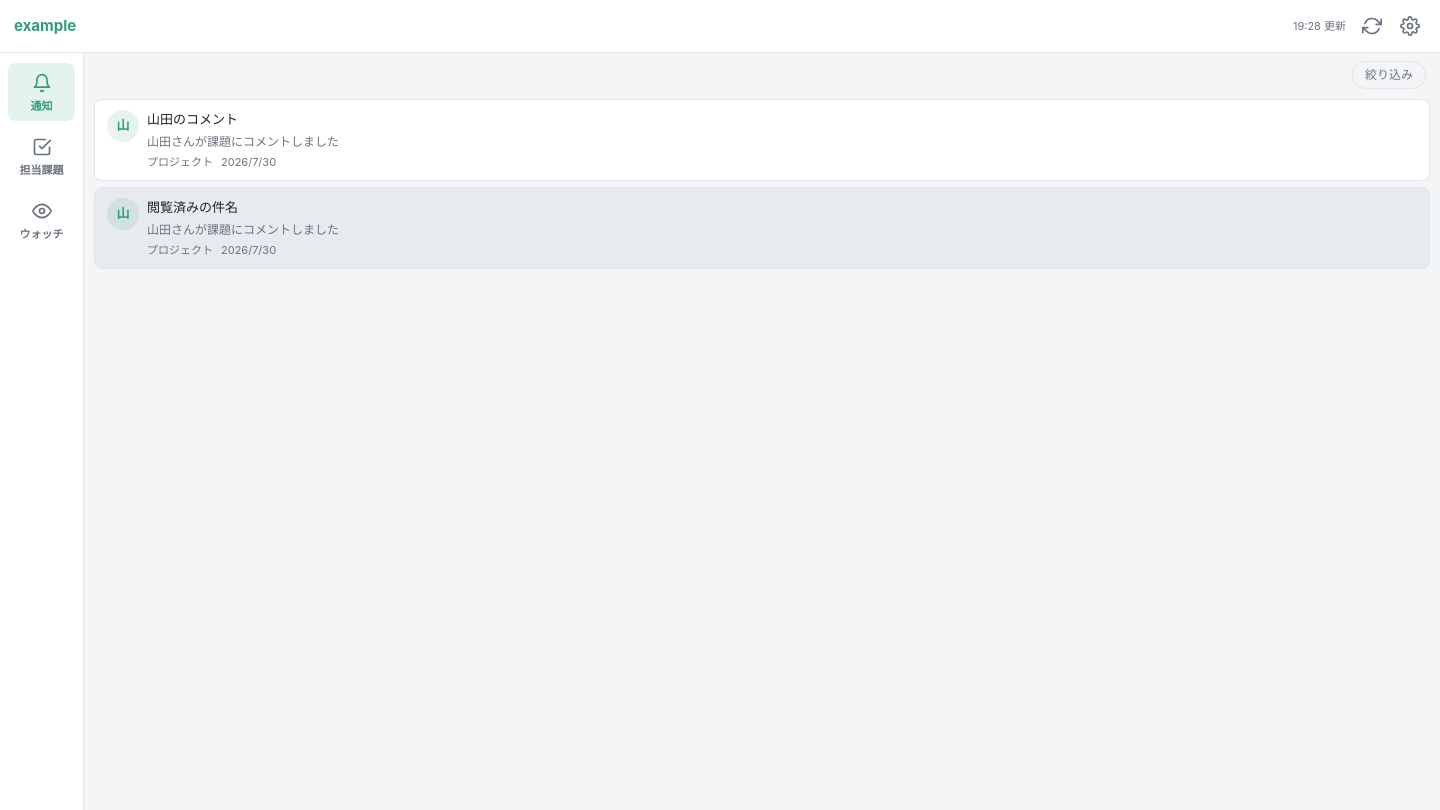
Test case: App の通知の絞り込み › 未閲覧のみで閲覧済みの通知が消える
The image size is (1440, 810).
Click the button "絞り込み".
click(1389, 75)  # box [1352,61,1426,89]
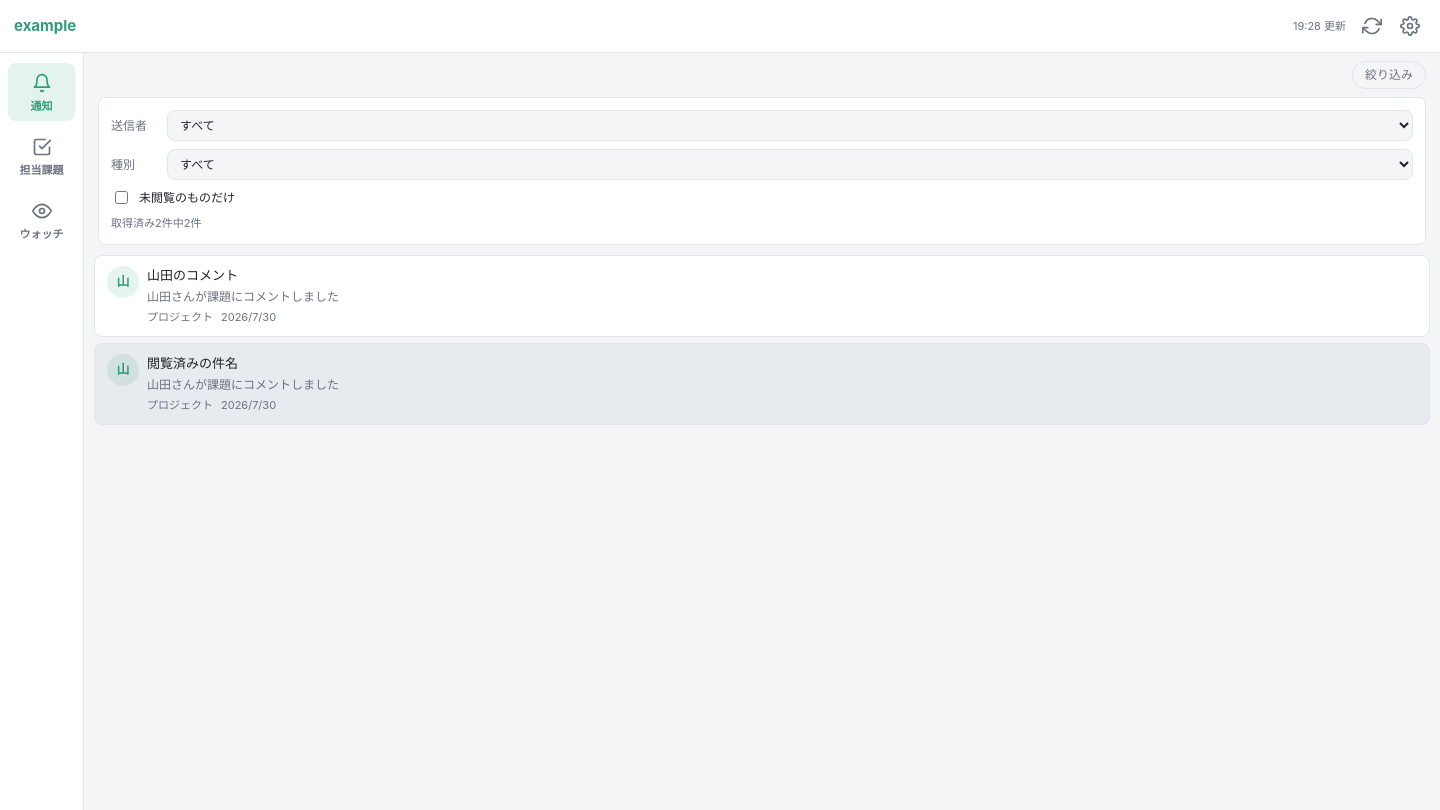
Click the checkbox labelled "未閲覧のものだけ".
click(122, 198)  # box [115,191,128,204]
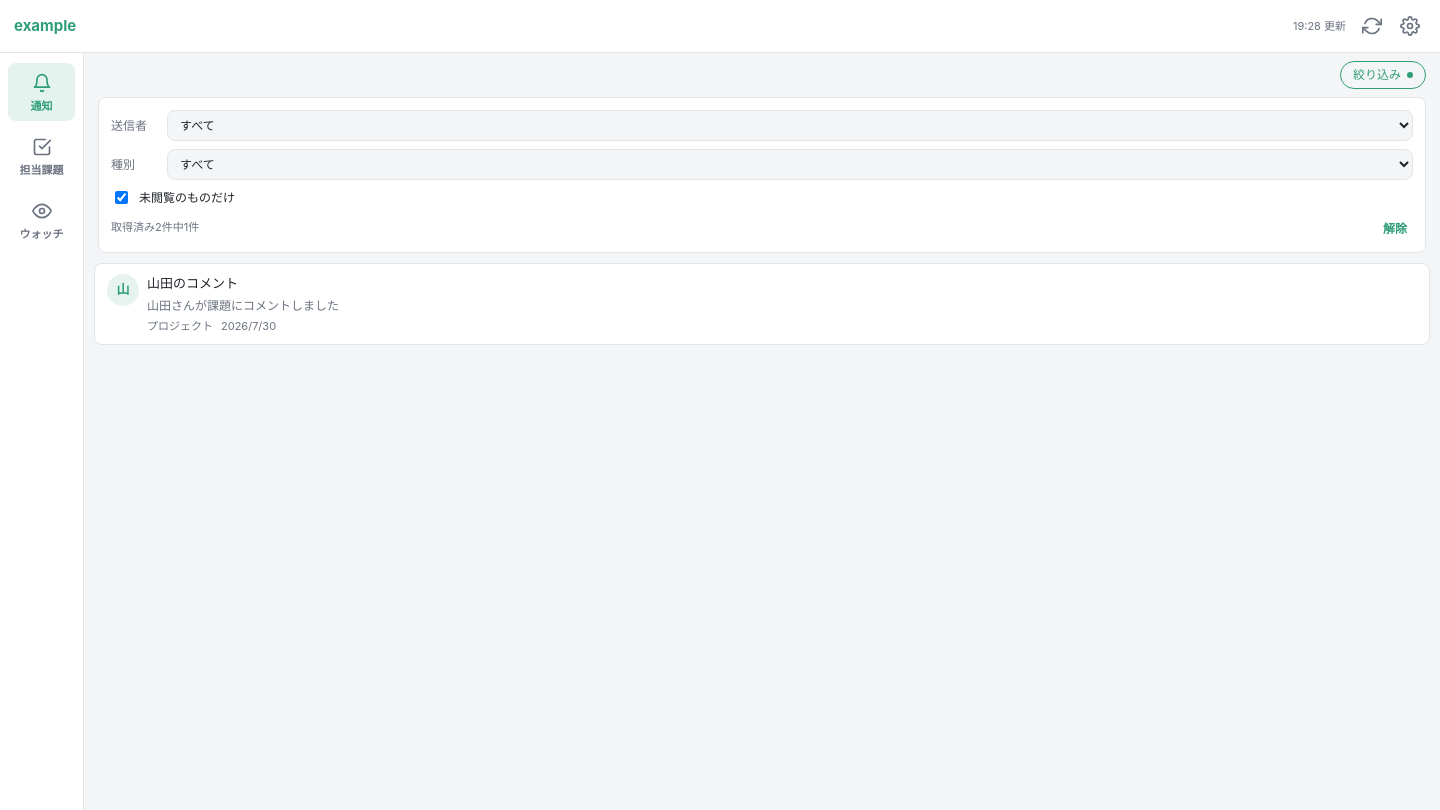
Expected: the text "山田のコメント" is shown, [147,275,238,291]
Now the button "閲覧済みの件名" is gone
